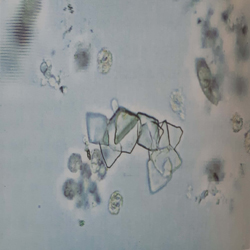Crystal: (84, 103, 185, 193)
